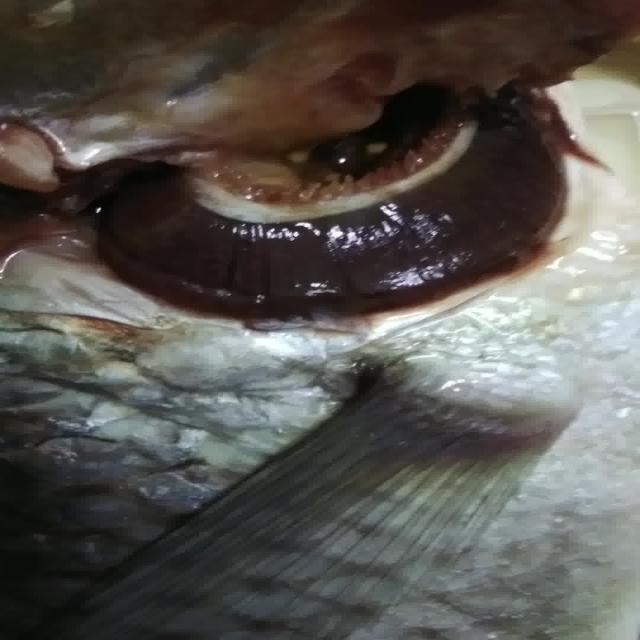Non-Fresh: (22, 12, 602, 367)
